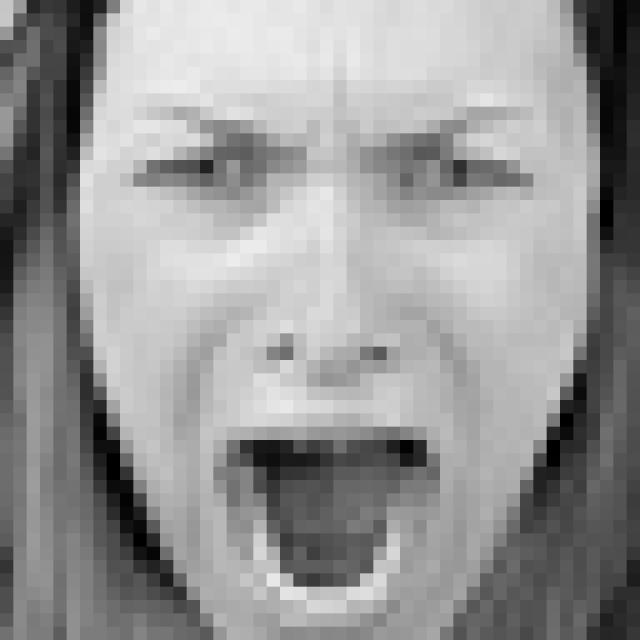angry: (120, 93, 547, 616)
